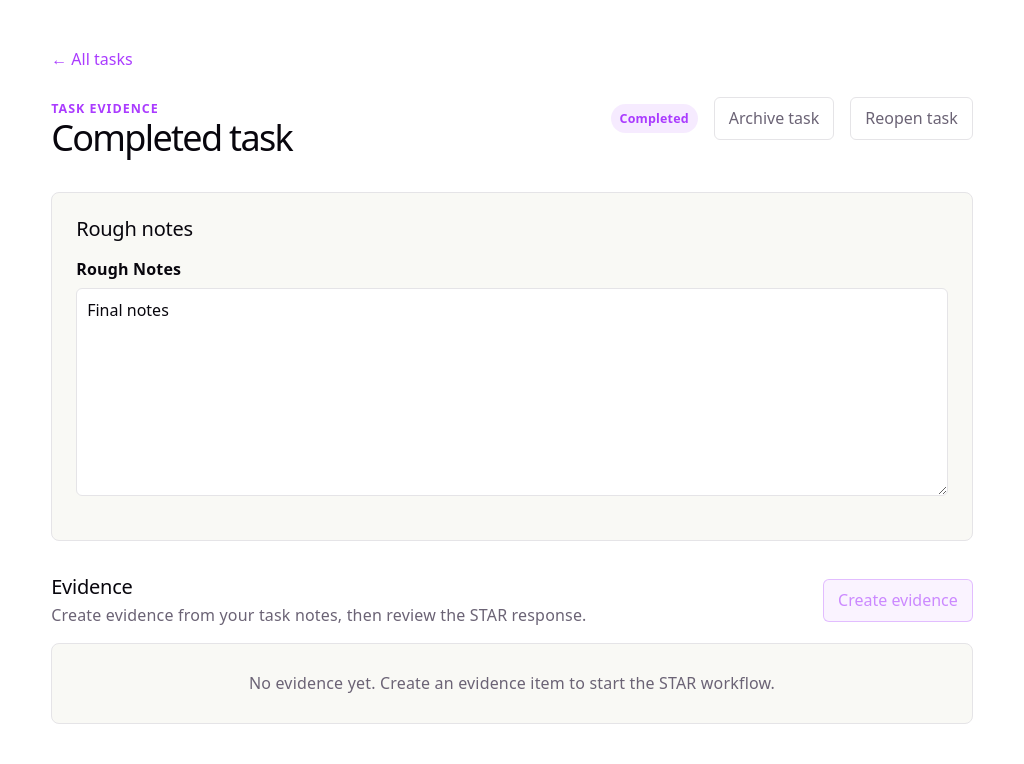
App routes › reopens a completed task and refreshes progress
Check: the heading "Completed task" is shown, box [51, 126, 292, 150]
What coordinates should you click on to do the following:
click the button "Reopen task"
I would click on:
 (912, 119)
Its box is [850, 97, 973, 140].
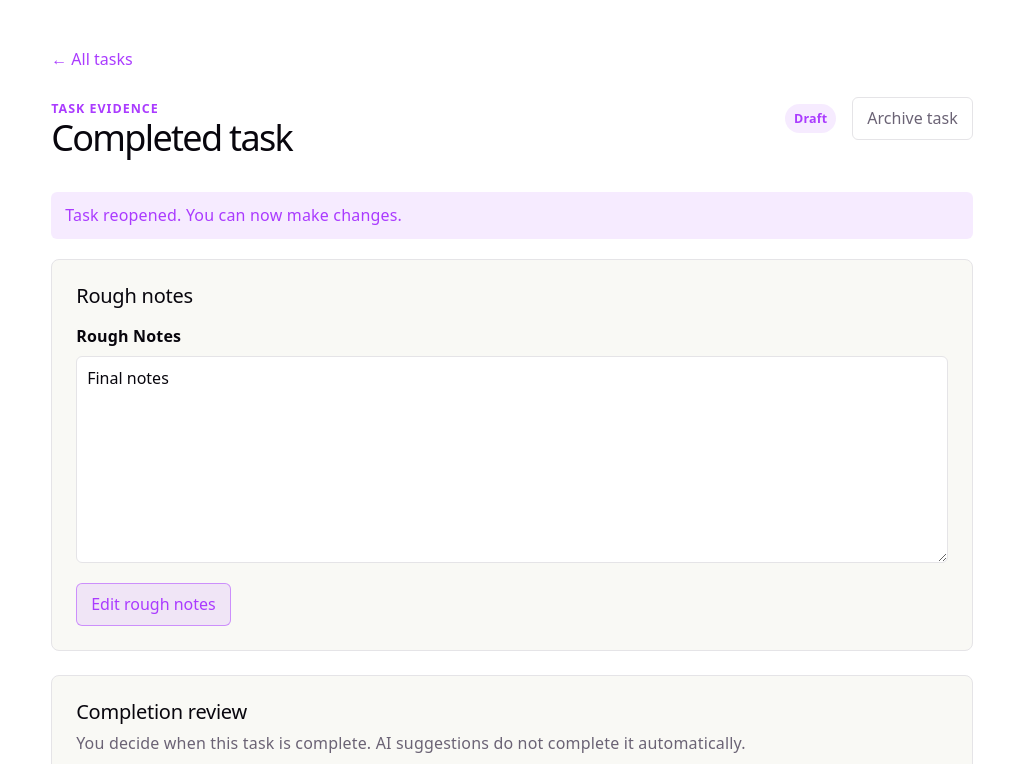
Check: the button "Edit rough notes" is shown, box [76, 583, 231, 626]
